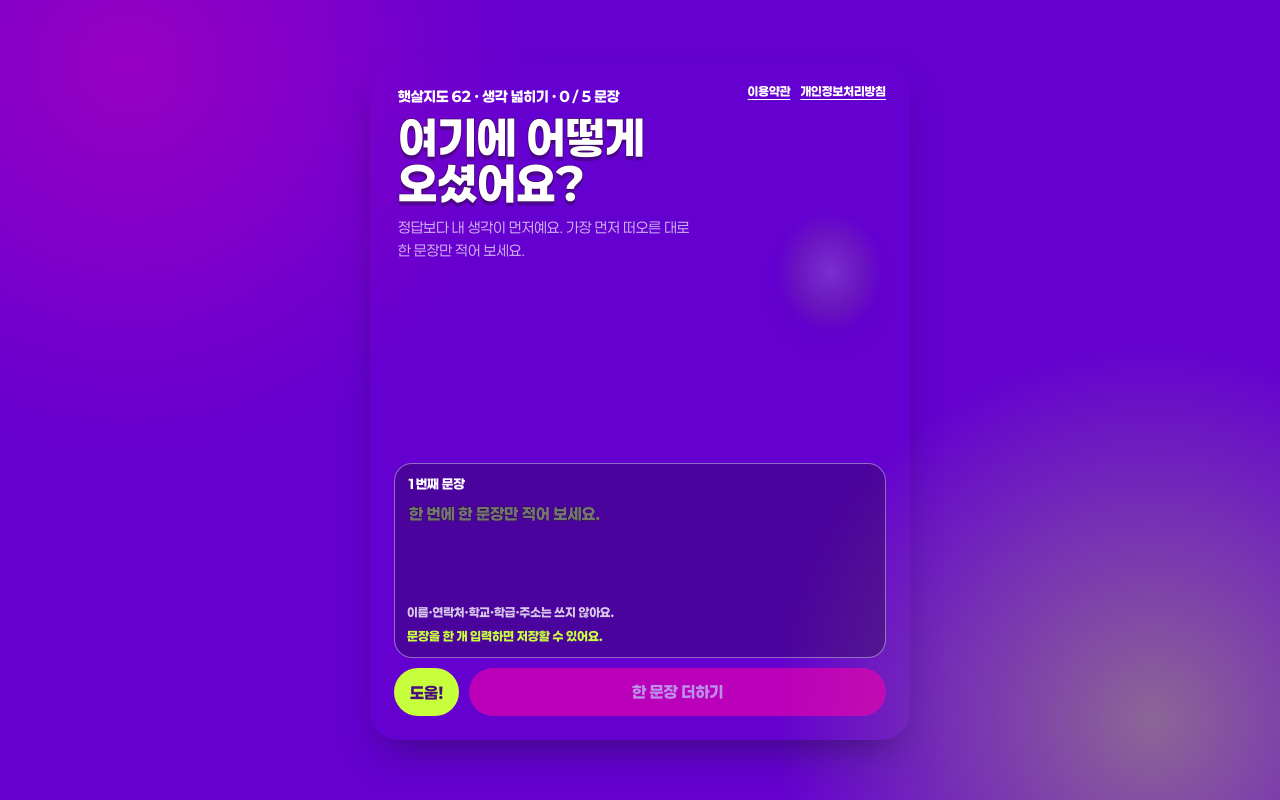
Test: 학생 활동 시작 화면 › 디디가 이동 중일 때 도움을 누르면 기다리지 않고 도움 질문을 연다
Expected: the button "도움!" is enabled, [394,668,459,716]
Type "버스를 타고 왔어요." into the text box labelled "1번째 문장".
click(640, 548); type("버스를 타고 왔어요.")  # box [407,500,873,596]
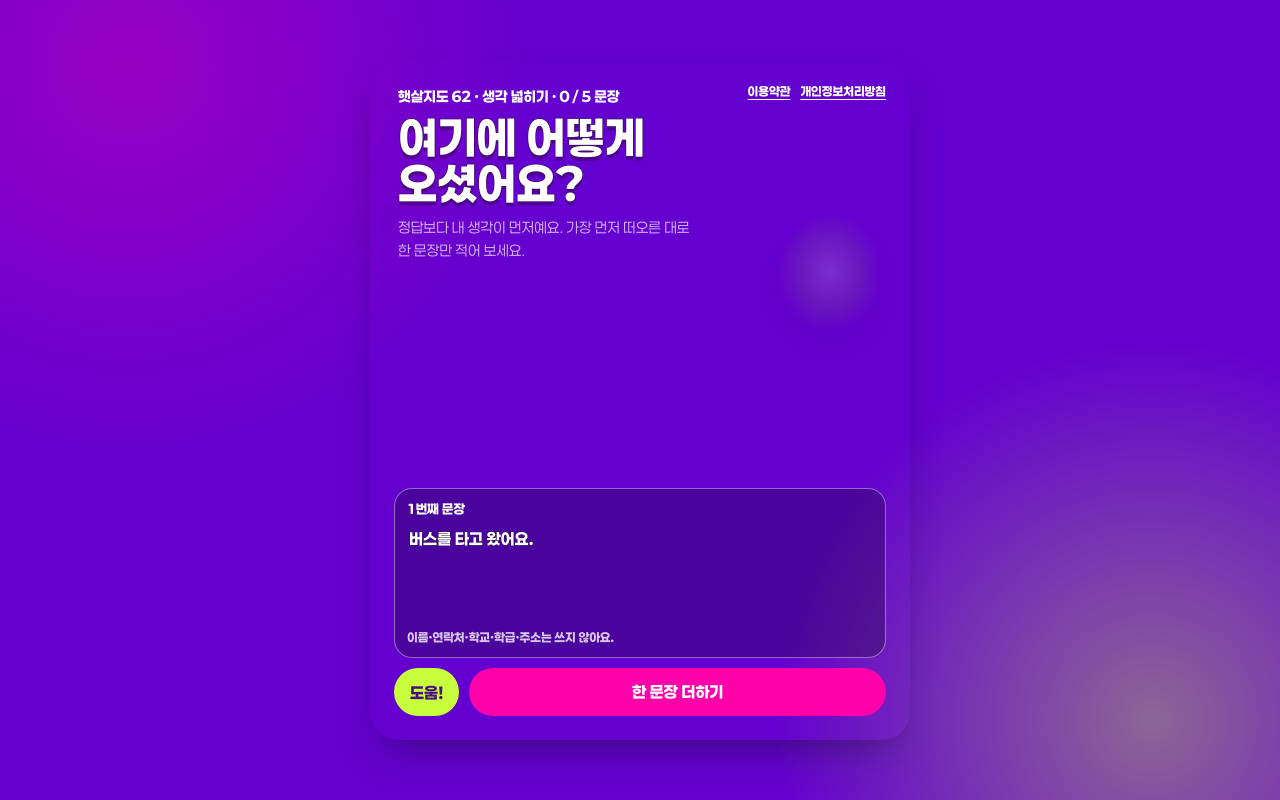
Click the button "도움!".
click(427, 692)  # box [394,668,459,716]
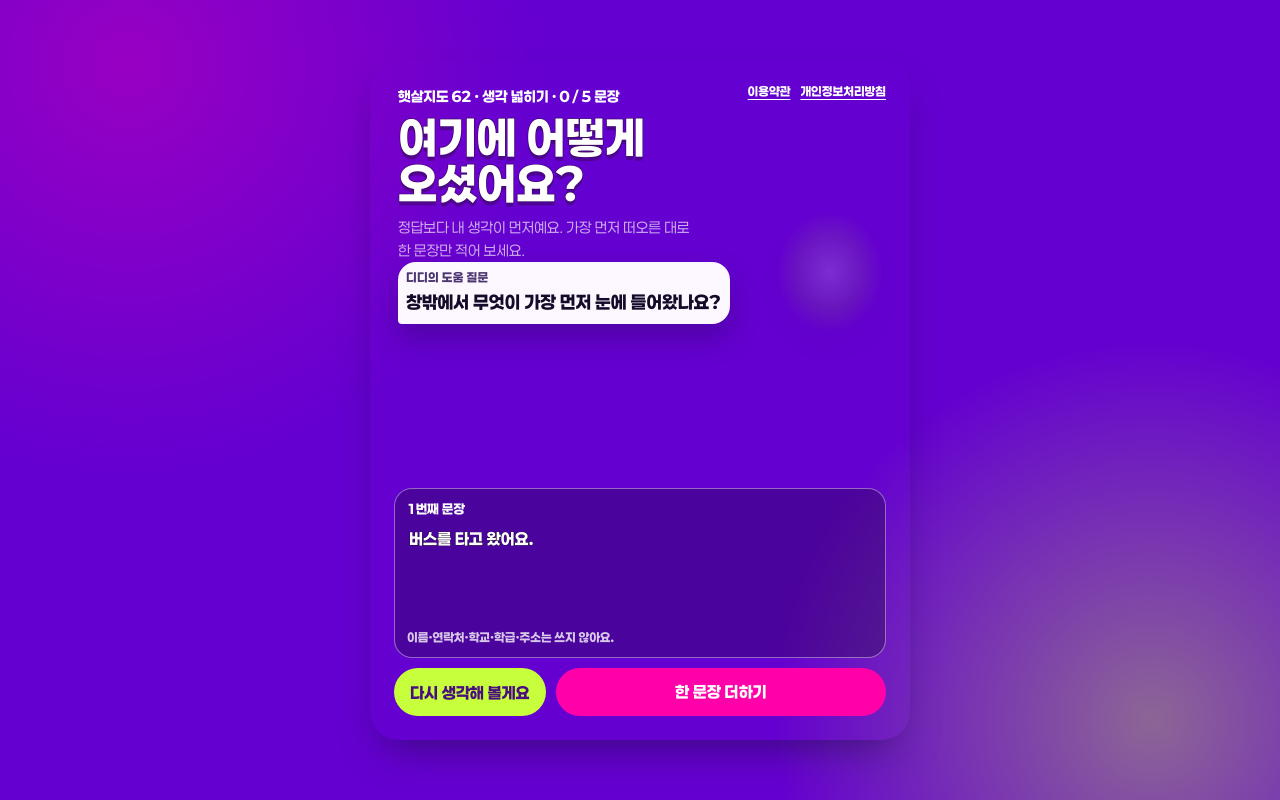
Result: the text "디디가 문장 사이를 살펴보고 있어요." is shown at [406,290,722,316]
